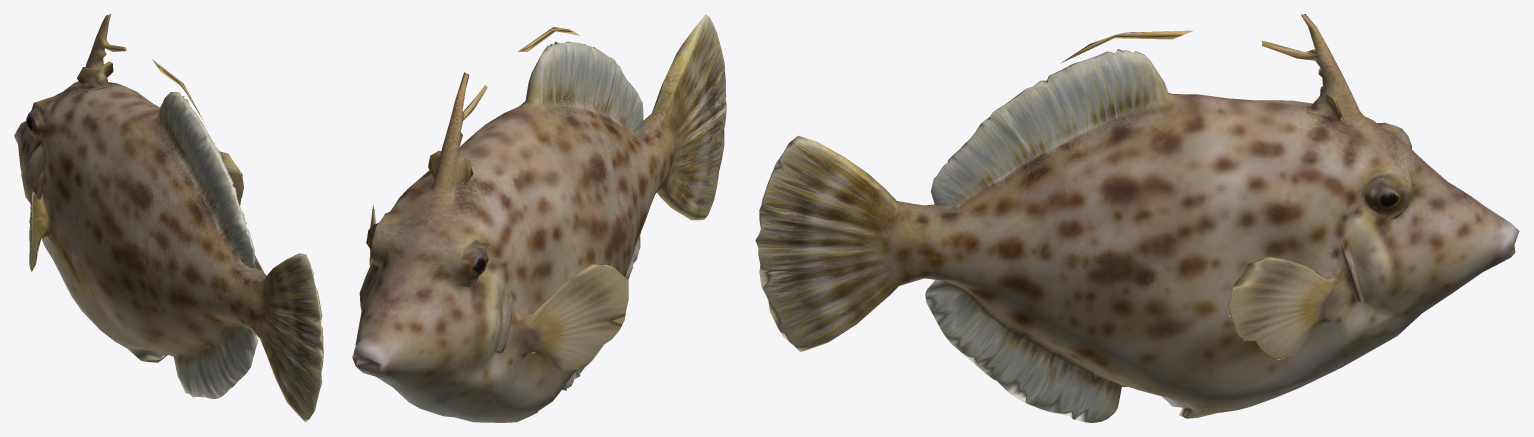
File: filefish.glb
3 views of the same model, side by side, from view 1: azimuth 30°, elevation 25°; view 2: azimuth 150°, elevation 25°; view 3: azimuth 270°, elevation 25° (orthographic). The views are drawn at different scales.
Visible parts, largest first — view 1: tripo_node_9daf90fa-5b20-4a97-beb6-d81299d489be; view 2: tripo_node_9daf90fa-5b20-4a97-beb6-d81299d489be; view 3: tripo_node_9daf90fa-5b20-4a97-beb6-d81299d489be.
Part boxes in pixels (left/top/right/bottom): tripo_node_9daf90fa-5b20-4a97-beb6-d81299d489be: left=14, top=14, right=323, bottom=422; tripo_node_9daf90fa-5b20-4a97-beb6-d81299d489be: left=352, top=14, right=726, bottom=422; tripo_node_9daf90fa-5b20-4a97-beb6-d81299d489be: left=755, top=14, right=1519, bottom=422.
Size of the model in its own units: 0.4106 by 0.5919 by 1.
1 material, 1 textured.
